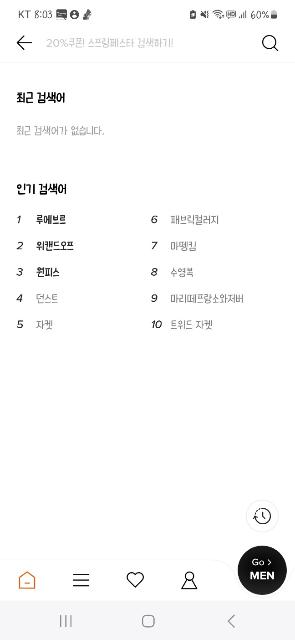Bottom_Navigation: (1, 562, 232, 600)
EditText: (41, 32, 243, 56)
Icon: (18, 571, 36, 589), (255, 506, 272, 524), (262, 35, 280, 51), (128, 572, 144, 588), (181, 572, 197, 588), (17, 36, 33, 50), (74, 574, 90, 586), (268, 558, 272, 566)
ImageButton: (247, 500, 279, 530)
Text: (47, 36, 173, 48), (17, 125, 103, 136), (152, 294, 244, 304), (151, 214, 219, 224), (152, 320, 212, 330), (18, 184, 66, 196), (18, 92, 64, 104), (18, 213, 66, 224), (17, 242, 75, 250), (16, 267, 59, 277), (152, 268, 194, 278), (16, 294, 57, 304), (152, 242, 196, 250), (18, 320, 52, 330), (250, 572, 274, 580), (253, 558, 265, 566)
TextButton: (237, 546, 287, 596)
Toolbar: (0, 28, 295, 62)
UpperTaskBar: (0, 0, 295, 28)
